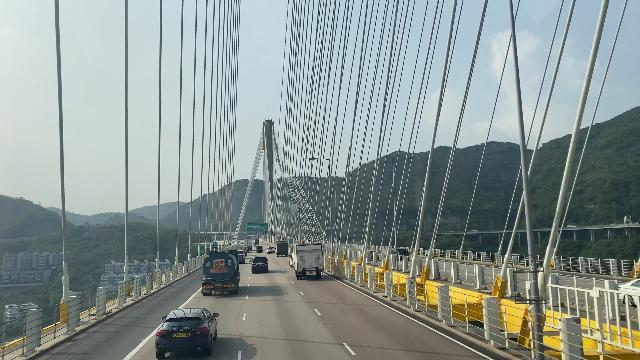car: (157, 306, 222, 360), (248, 255, 272, 276), (266, 246, 275, 254)
truck: (201, 249, 241, 298), (291, 243, 328, 279), (276, 239, 292, 258)
